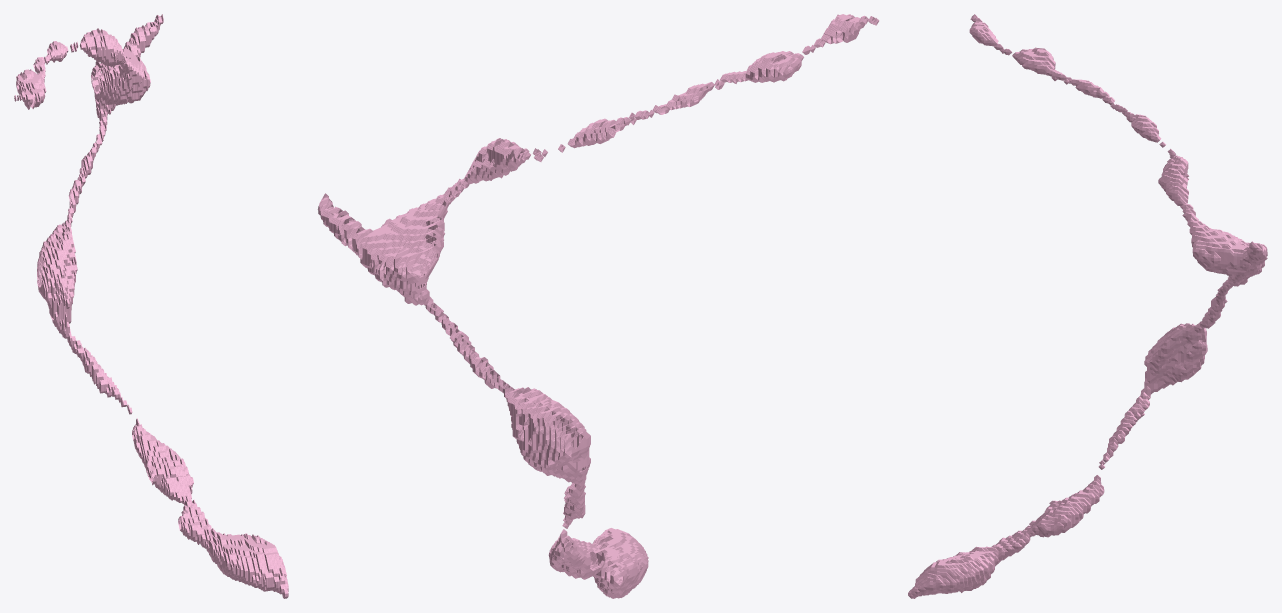
The model's file is SVV_ALML.gltf.
3 views of the same model, side by side, from view 1: azimuth 30°, elevation 25°; view 2: azimuth 150°, elevation 25°; view 3: azimuth 270°, elevation 25° (orthographic). The views are drawn at different scales.
Parts seen in each view (by area): view 1: ALML; view 2: ALML; view 3: ALML.
Boxes of the visible parts, <box> form: ALML: <box>14,14,288,598</box>; ALML: <box>317,14,879,598</box>; ALML: <box>908,14,1267,598</box>.
Size of the model in its own units: 63527 by 106852 by 72401.
